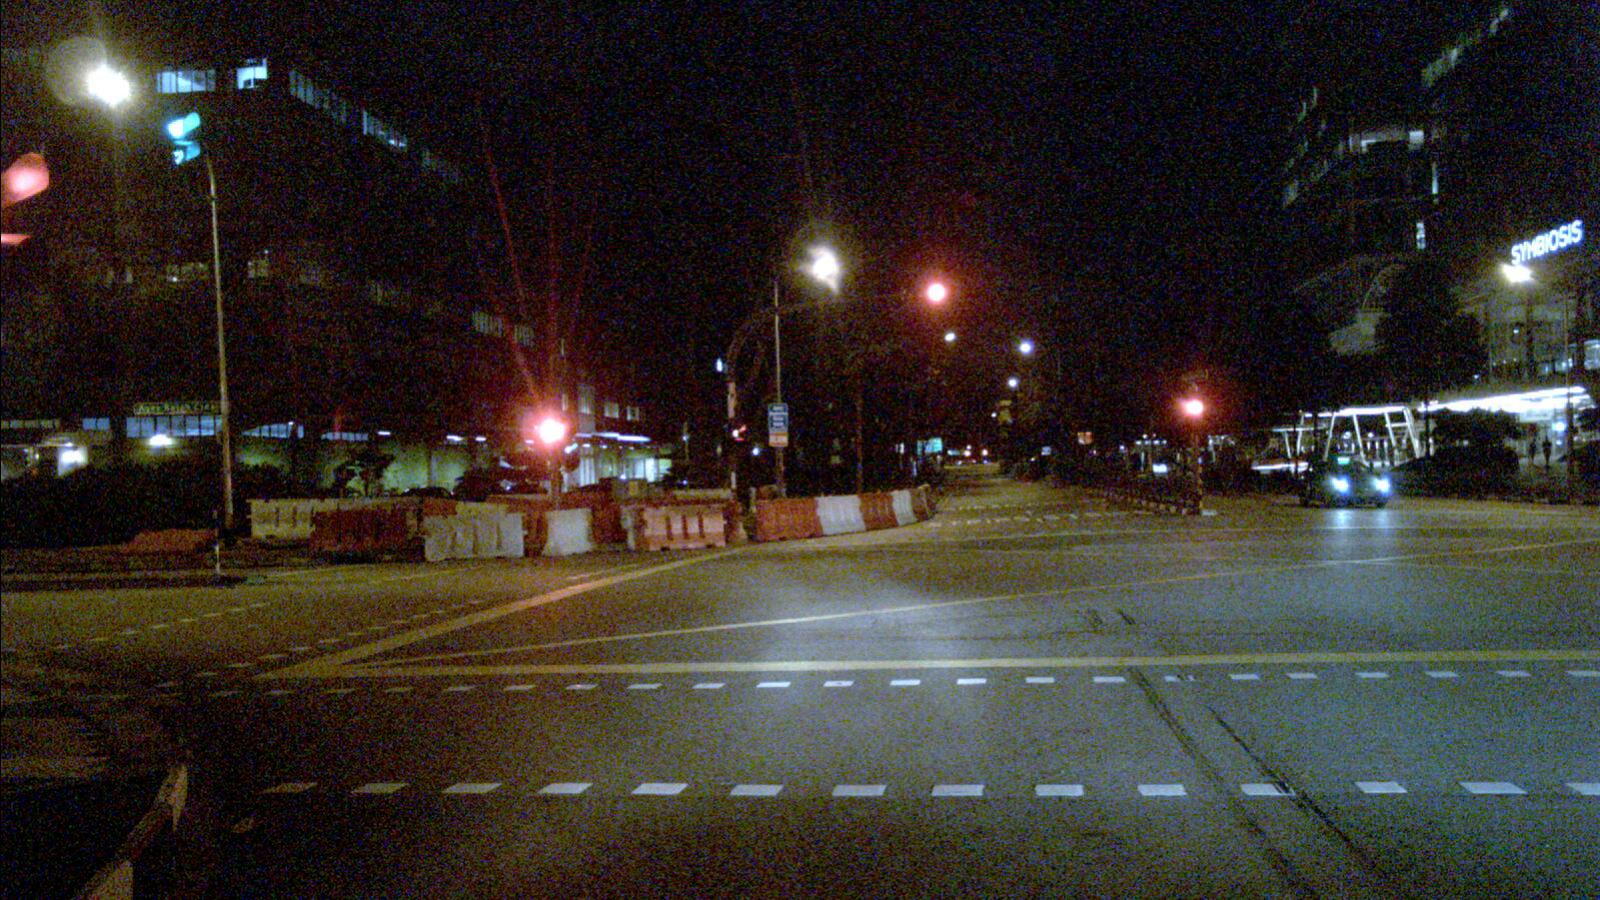human.pedestrian.adult-pedestrian.moving: (1541, 436, 1551, 465), (1527, 439, 1535, 464), (1377, 444, 1385, 467)
